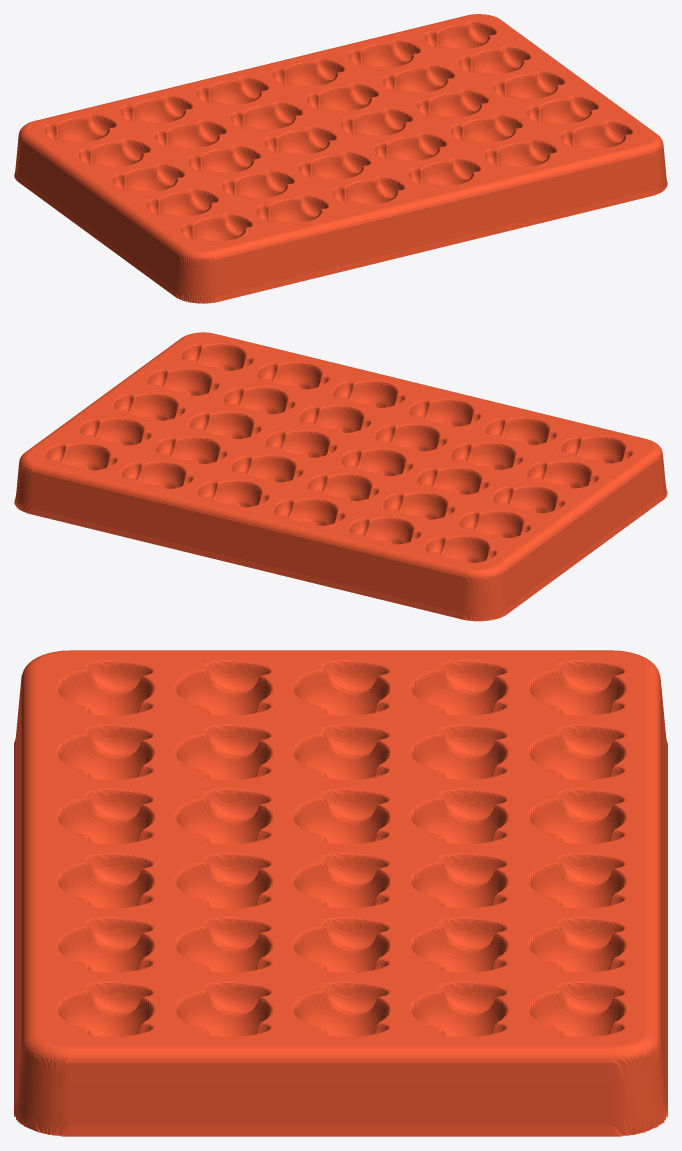
The model's file is mold.glb.
The picture shows the model from 3 angles, top to bottom: view 1: azimuth 30°, elevation 25°; view 2: azimuth 150°, elevation 25°; view 3: azimuth 270°, elevation 25°; orthographic projection. The views are drawn at different scales.
Parts seen in each view (by area): view 1: geometry_0; view 2: geometry_0; view 3: geometry_0.
Boxes of the visible parts, <box> form: geometry_0: <box>14,14,667,303</box>; geometry_0: <box>14,332,667,621</box>; geometry_0: <box>14,650,667,1136</box>.
Bounding box in the file's own units: 0.1578 × 0.0145 × 0.1056.
